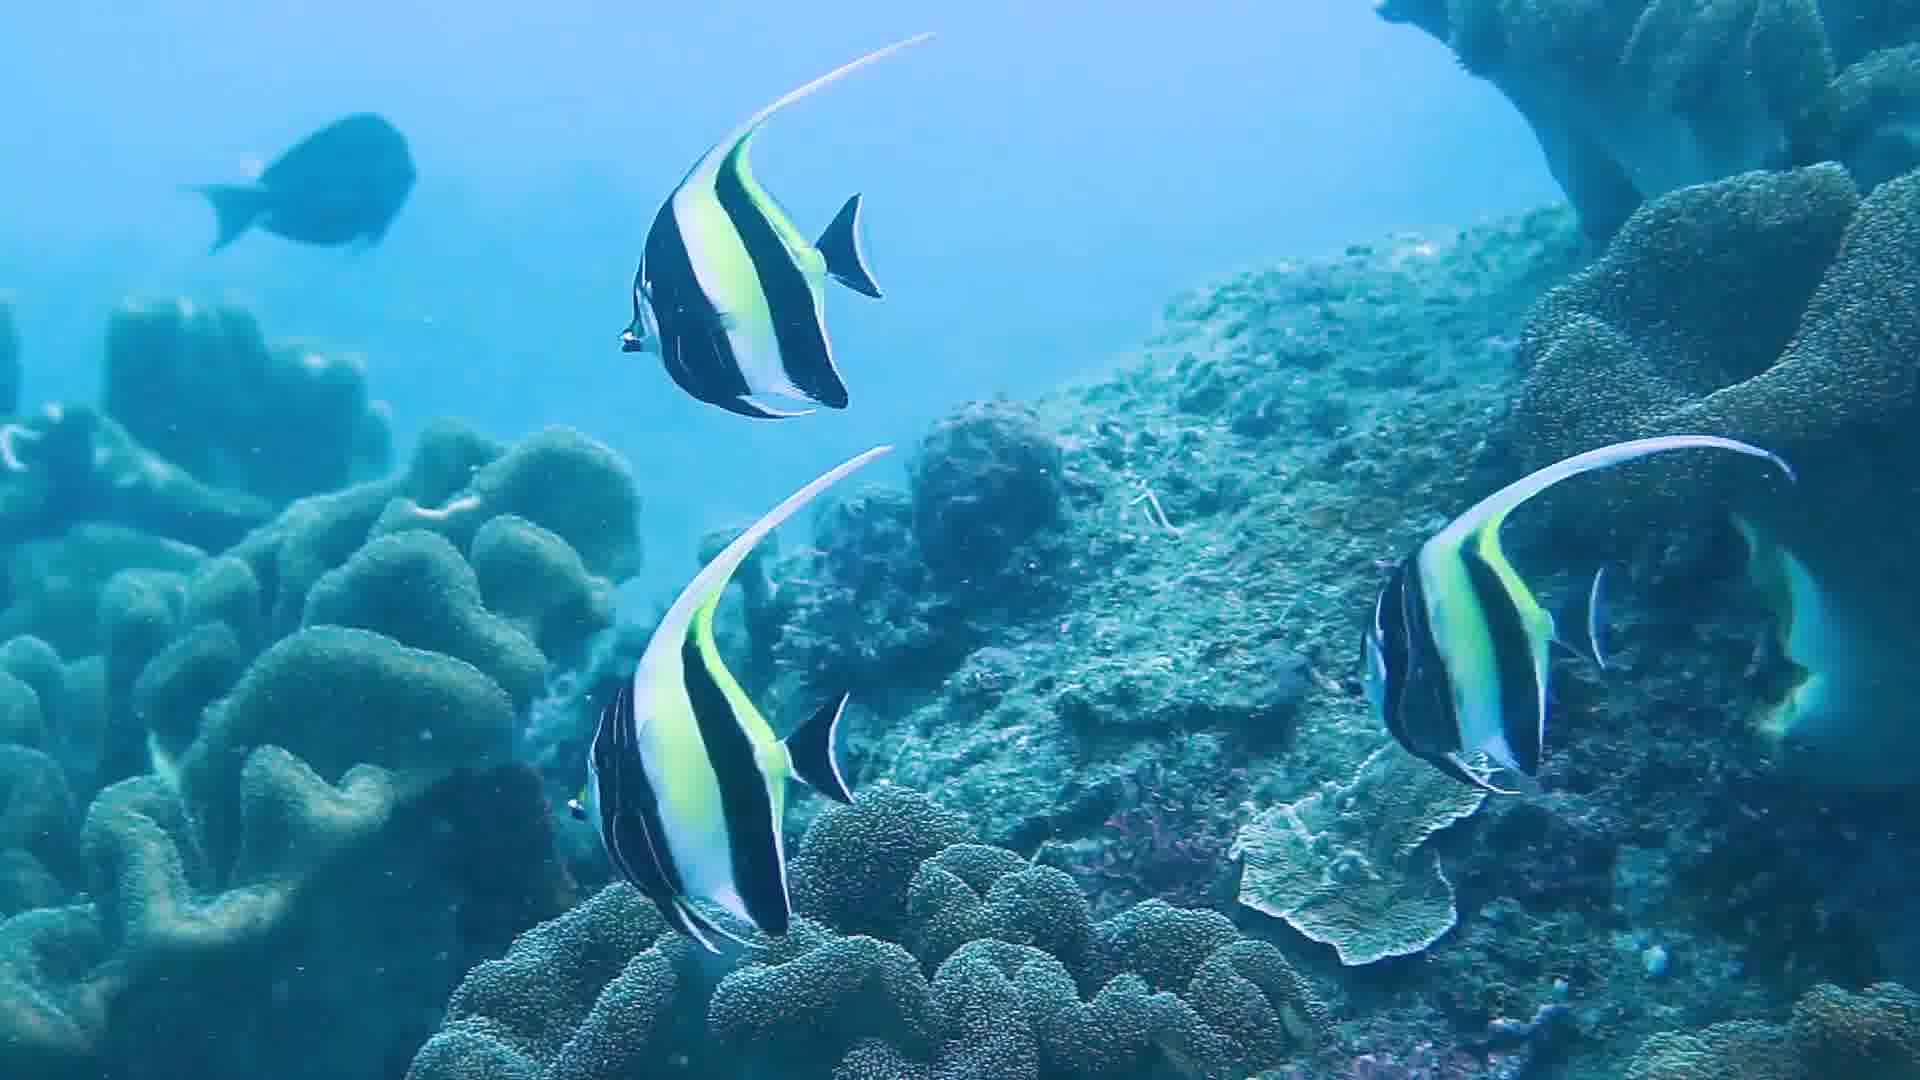Zanclus cornutus: (1327, 479, 1625, 799), (615, 132, 913, 452), (564, 608, 862, 928)
